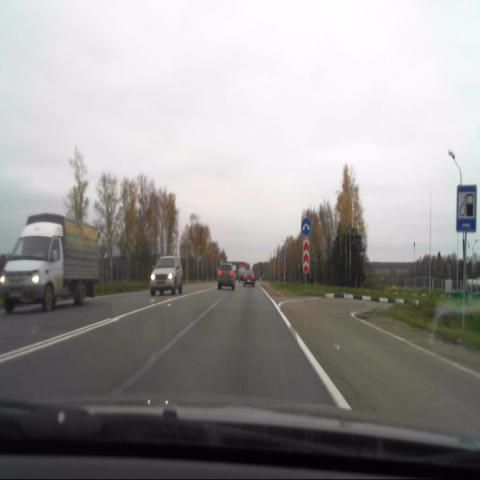7_3: (456, 184, 478, 235)
